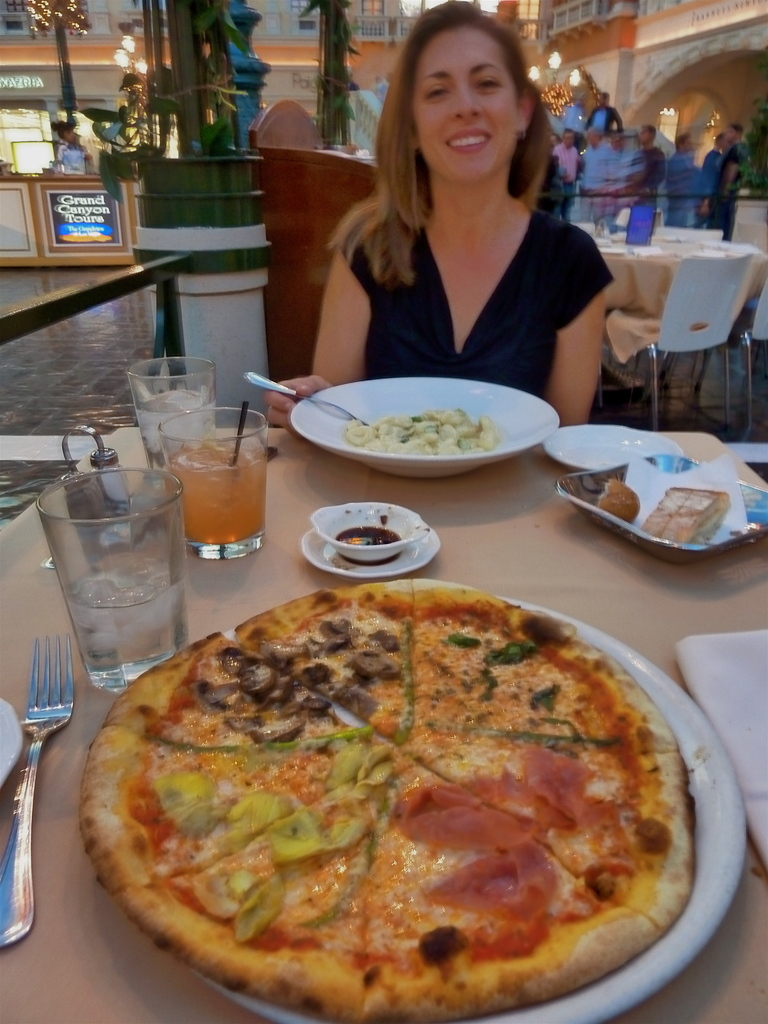Pizza: (95, 568, 707, 1024)
